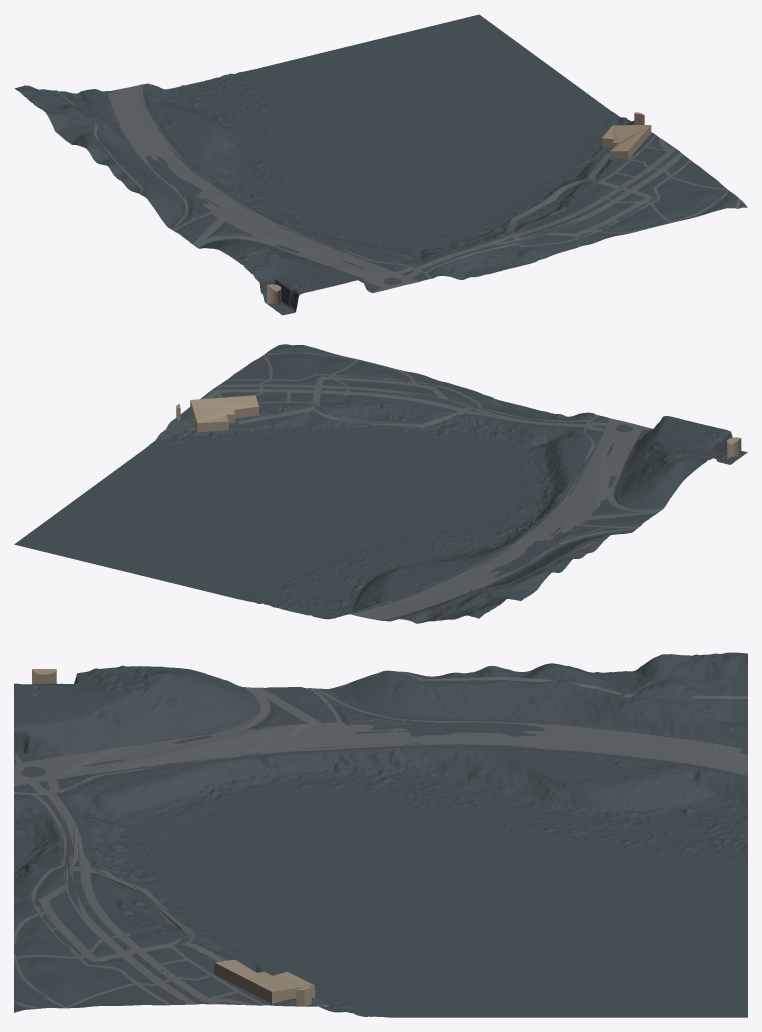
Rendered from epsg26910-1416-10873.lod0.glb.
3 renders of one model, top to bottom at view 1: azimuth 30°, elevation 25°; view 2: azimuth 150°, elevation 25°; view 3: azimuth 270°, elevation 25°, orthographic. The views are drawn at different scales.
Parts seen in each view (by area): view 1: epsg26910-1416-10873-lod0; view 2: epsg26910-1416-10873-lod0; view 3: epsg26910-1416-10873-lod0.
Part boxes in pixels (<box>): epsg26910-1416-10873-lod0: <box>14,14,747,315</box>; epsg26910-1416-10873-lod0: <box>14,344,747,623</box>; epsg26910-1416-10873-lod0: <box>14,652,747,1017</box>.
Bounding box in the file's own units: 384 × 31.65 × 384.
